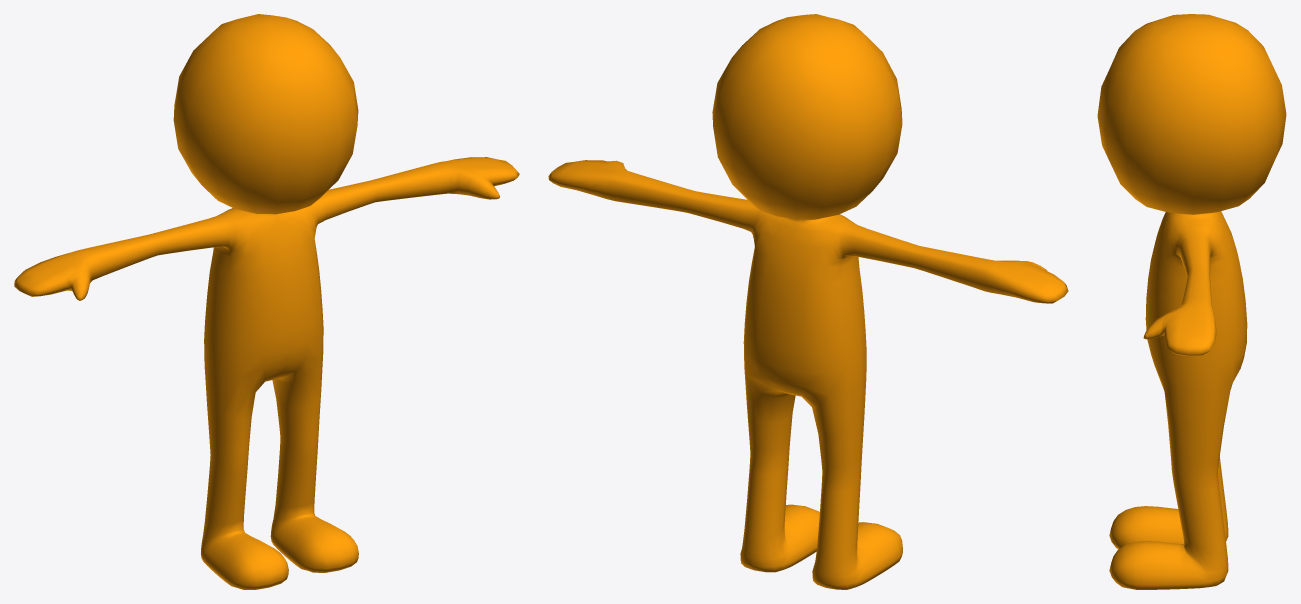
The model's file is stickman.glb.
3 views of the same model, side by side, from view 1: azimuth 30°, elevation 25°; view 2: azimuth 150°, elevation 25°; view 3: azimuth 270°, elevation 25° (orthographic). The views are drawn at different scales.
Visible parts, largest first — view 1: mesh_Mat_0; view 2: mesh_Mat_0; view 3: mesh_Mat_0.
Part boxes in pixels (x1,y1,x2,y2): mesh_Mat_0: (14, 14, 519, 589); mesh_Mat_0: (548, 14, 1068, 589); mesh_Mat_0: (1097, 14, 1286, 589).
Bounding box in the file's own units: 94.85 × 96.67 × 30.7.
